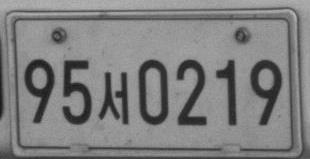0: (137, 57, 168, 126)
1: (215, 58, 248, 126)
2: (174, 56, 208, 126)
5: (62, 58, 92, 125)
9: (250, 57, 283, 127), (22, 57, 55, 123)
서: (96, 71, 129, 124)
